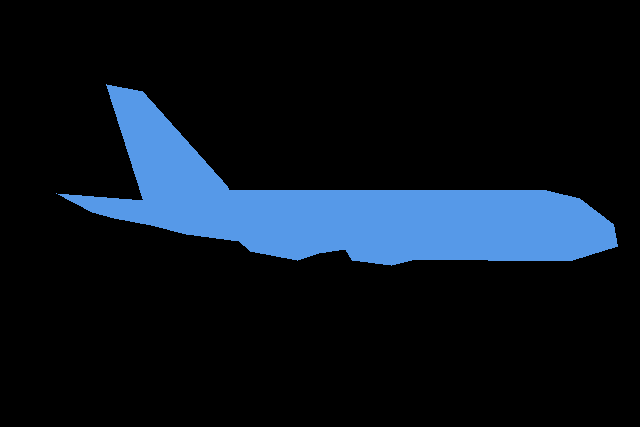Airplane: (56, 84, 618, 266)
